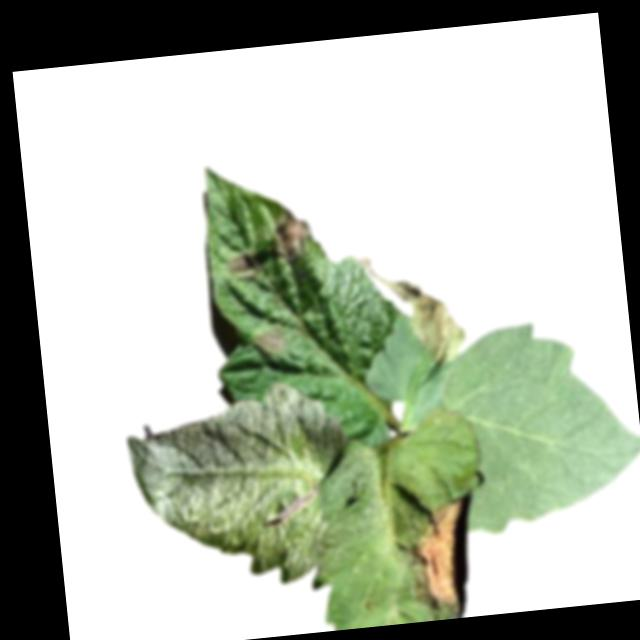Late_blight: (406, 492, 479, 614), (384, 266, 468, 367), (274, 207, 310, 260), (255, 325, 293, 352), (227, 251, 259, 275)
